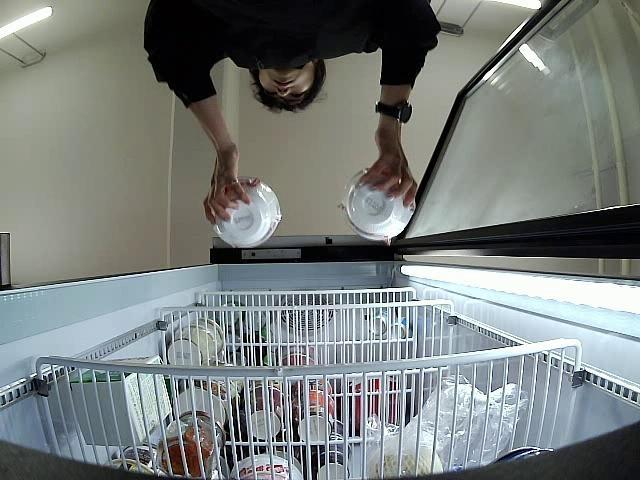09_yukGaeJang: (212, 176, 280, 248), (344, 170, 415, 238)
